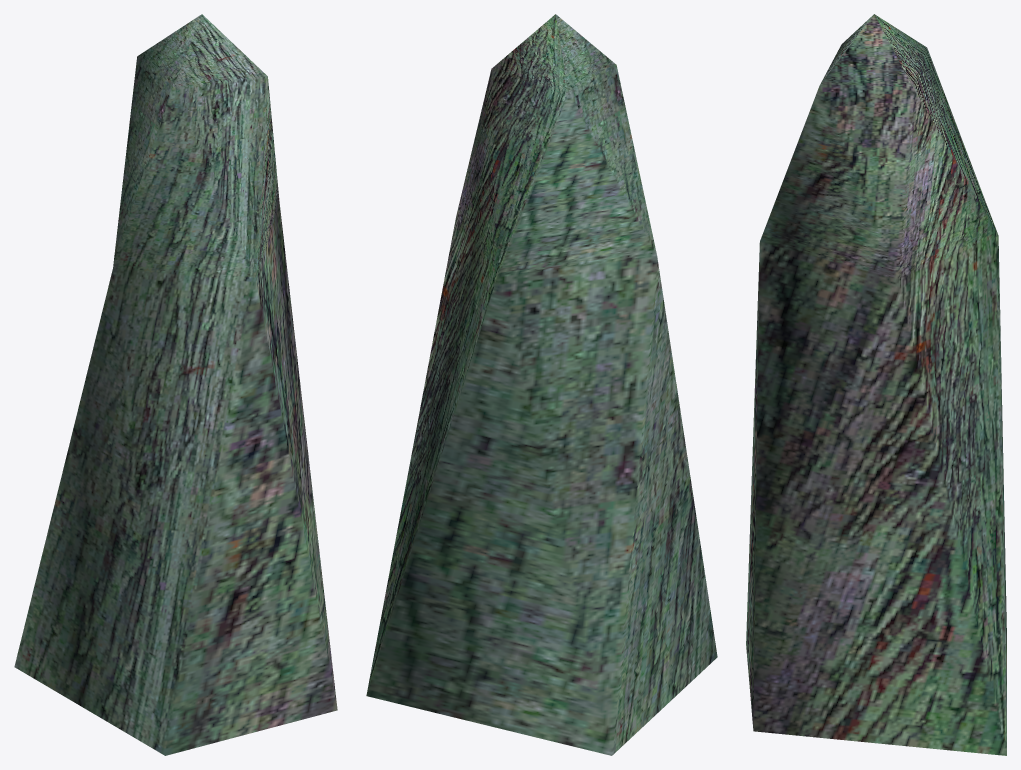
The model's file is decd_treeknee_l2.fbx.
3 views of the same model, side by side, from view 1: azimuth 30°, elevation 25°; view 2: azimuth 150°, elevation 25°; view 3: azimuth 270°, elevation 25° (orthographic). The views are drawn at different scales.
Parts seen in each view (by area): view 1: mesh_node; view 2: mesh_node; view 3: mesh_node.
Boxes of the visible parts, x1=… form: mesh_node: x1=14, y1=14, x2=337, y2=755; mesh_node: x1=366, y1=14, x2=717, y2=755; mesh_node: x1=746, y1=14, x2=1006, y2=755.
Bounding box in the file's own units: 2.17 × 5.62 × 1.95.
